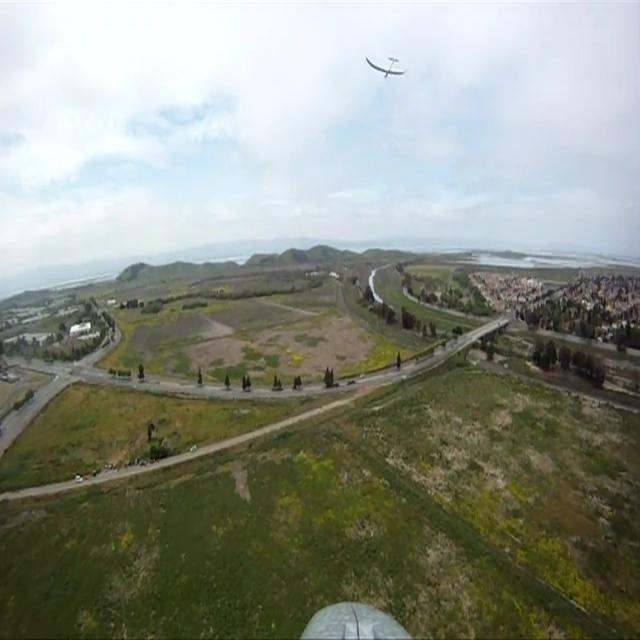iha: (364, 0, 407, 16)
